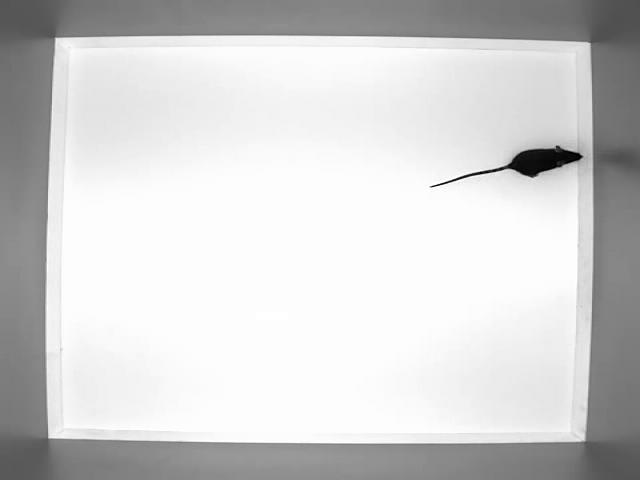Tikus: (428, 138, 585, 195)
